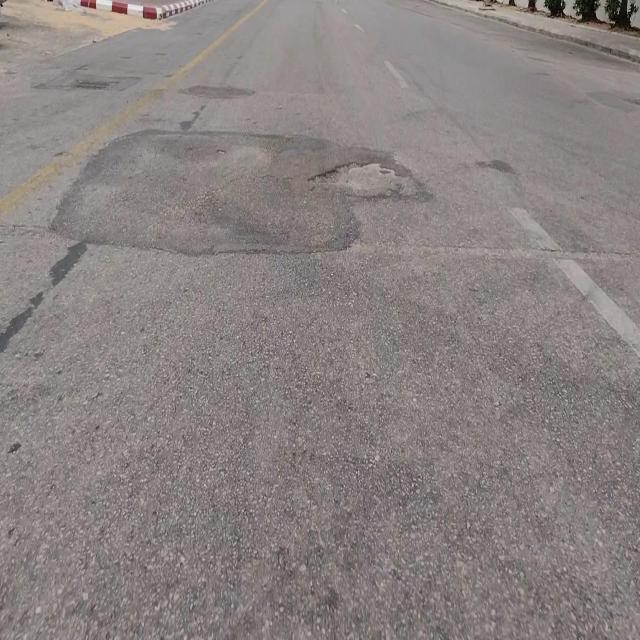Pothole: (309, 157, 397, 195)
